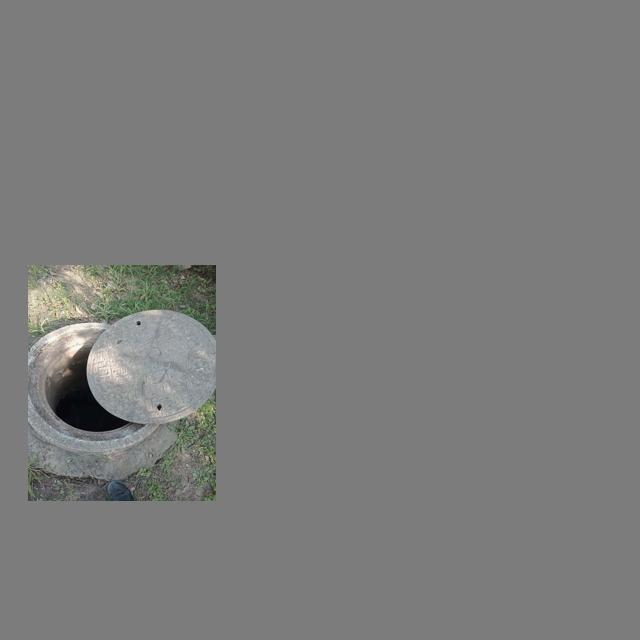uncovered: (28, 308, 214, 453)
